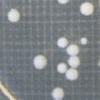white: (32, 53, 48, 72), (79, 0, 96, 17), (50, 84, 67, 100), (6, 8, 22, 24), (65, 68, 81, 82), (66, 56, 82, 69), (65, 44, 79, 57), (56, 61, 67, 75), (56, 37, 68, 49), (79, 36, 89, 47), (56, 0, 72, 6)
